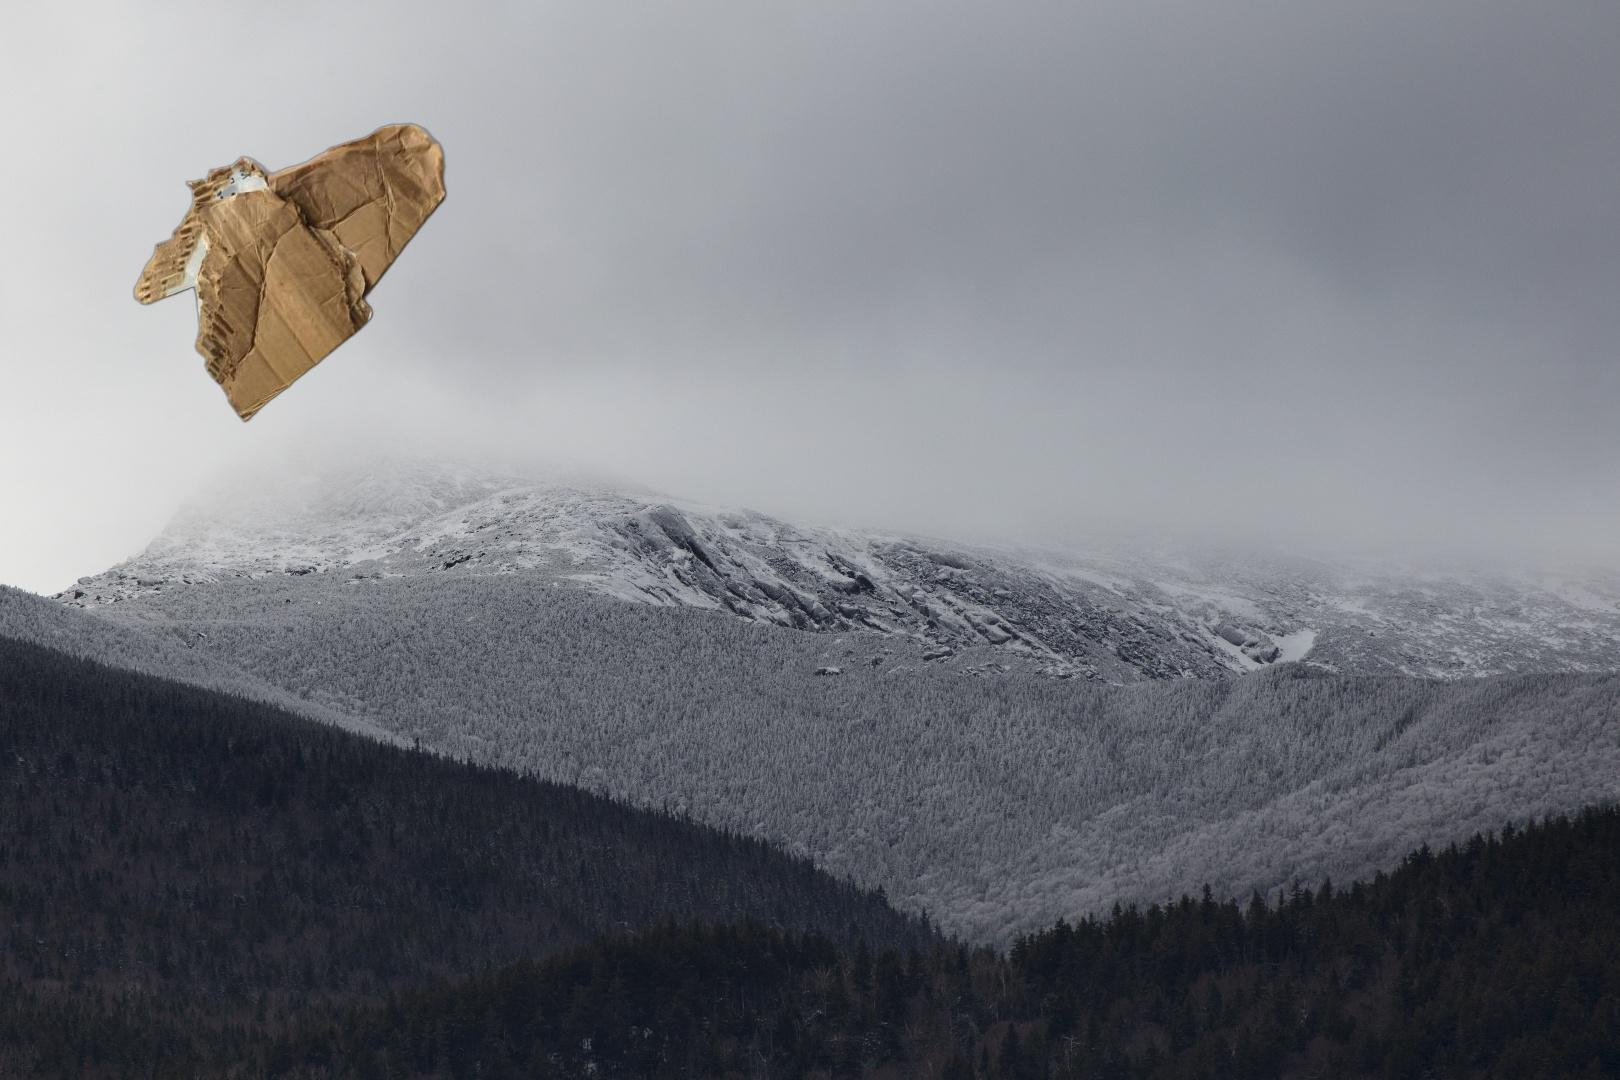trashbox-cardboard: (130, 122, 451, 425)
